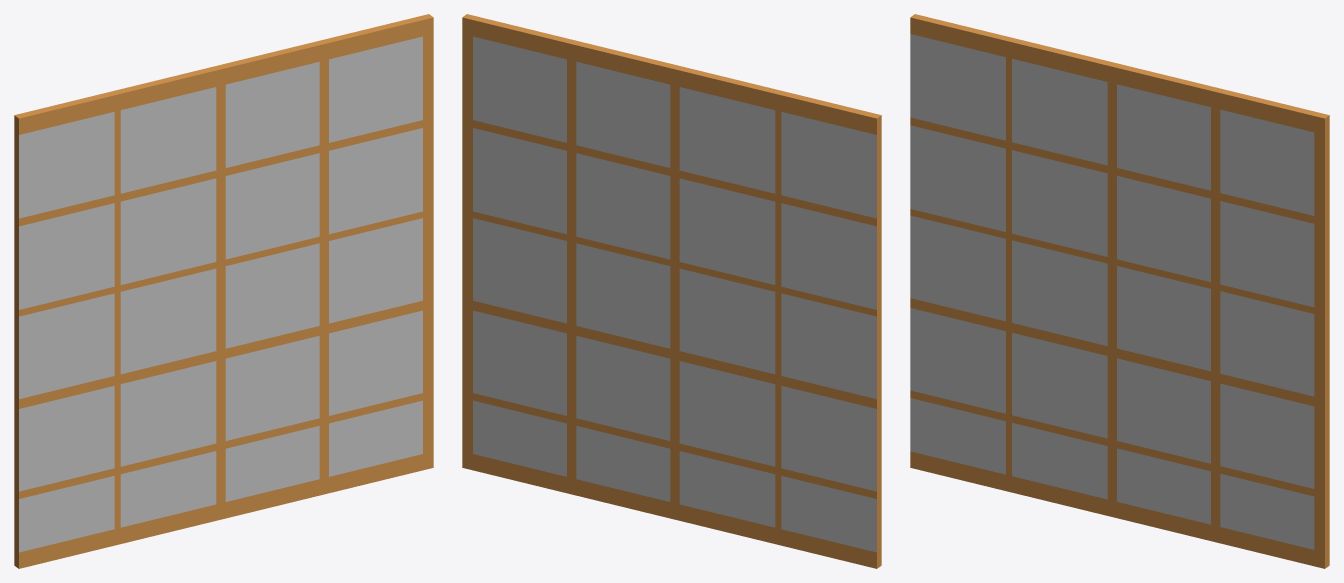
The model's file is wall1.gltf.
3 renders of one model, left to right at view 1: azimuth 30°, elevation 25°; view 2: azimuth 150°, elevation 25°; view 3: azimuth 330°, elevation 25°, orthographic.
Parts seen in each view (by area): view 1: Cube_005_Cube.007; view 2: Cube_005_Cube.007; view 3: Cube_005_Cube.007.
Boxes of the visible parts, box(x1,y1,x2,y2) form: Cube_005_Cube.007: box(14, 14, 433, 568); Cube_005_Cube.007: box(462, 14, 881, 568); Cube_005_Cube.007: box(910, 14, 1329, 568).
Size of the model in its own units: 2.92 by 3.03 by 0.0574.
